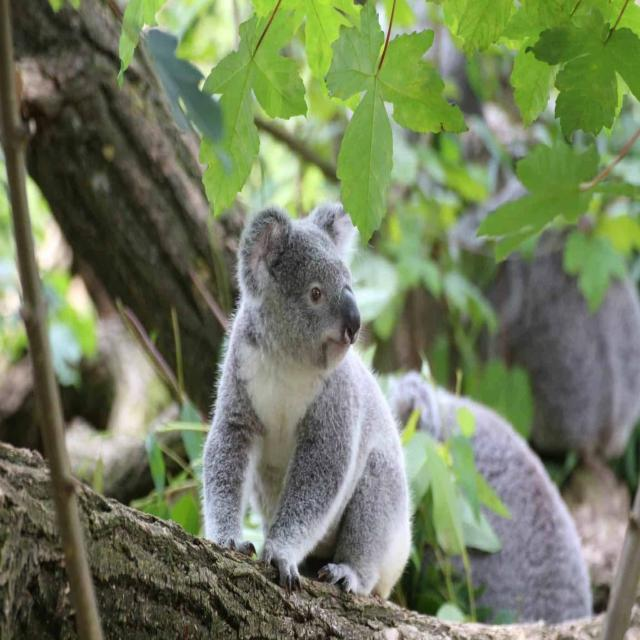Koala: (202, 200, 410, 606)
